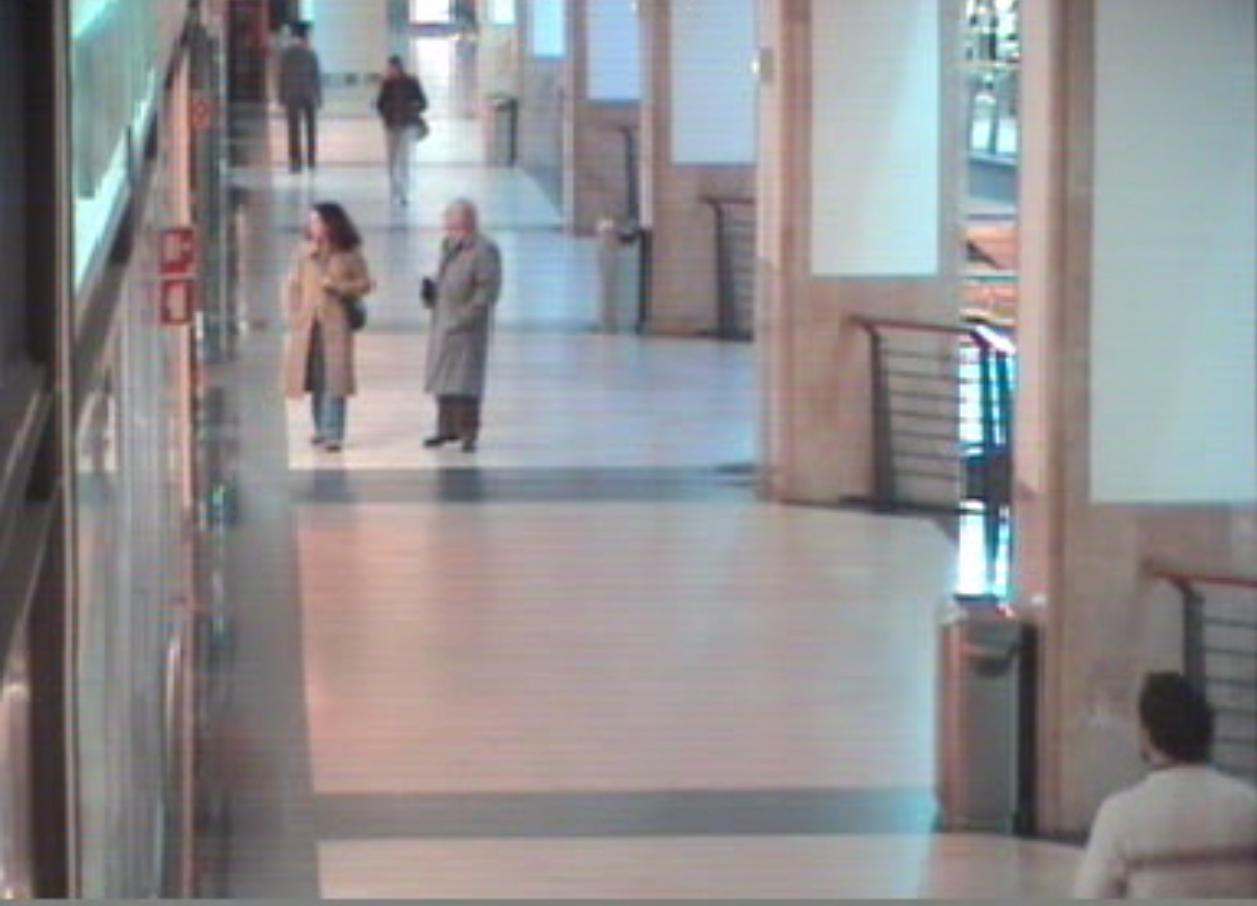person: (1016, 646, 1257, 906), (400, 190, 520, 464), (270, 190, 370, 476), (258, 14, 340, 182), (366, 48, 444, 216)
